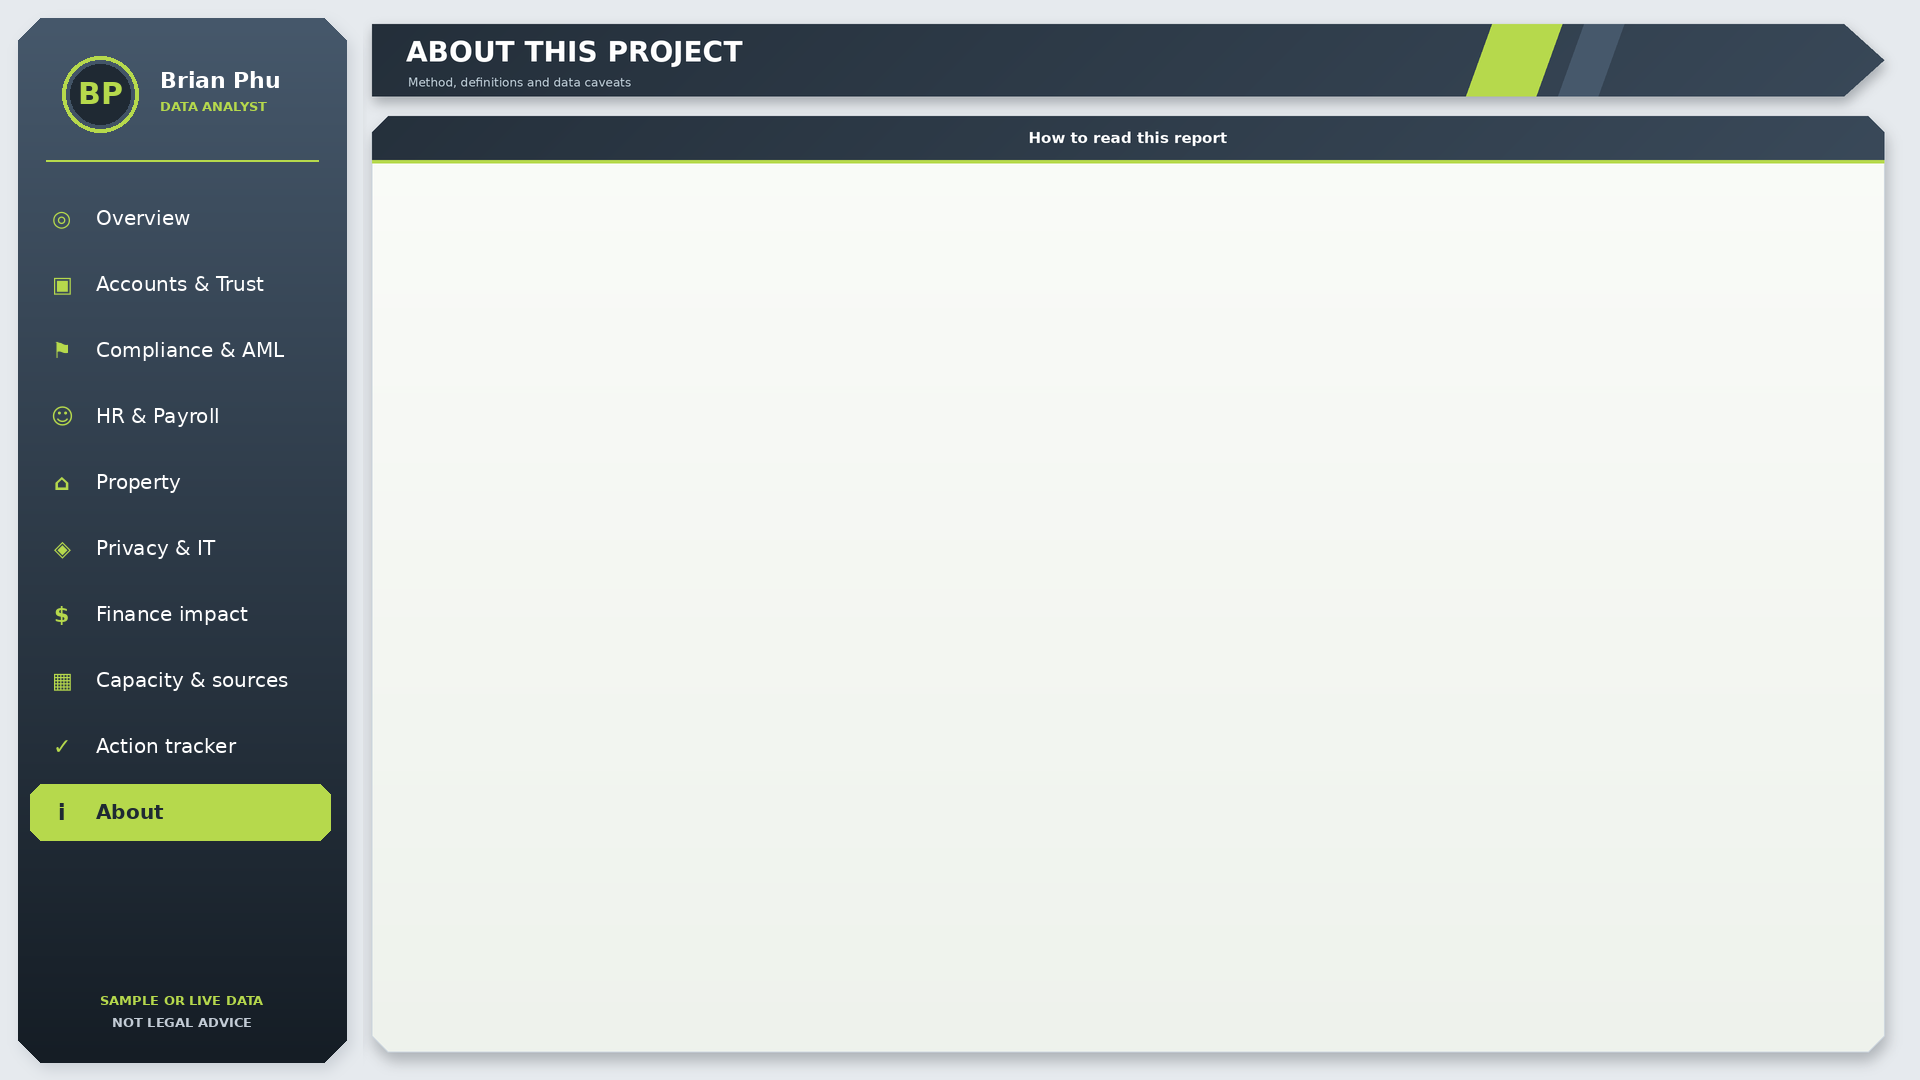

This screenshot's page, from the dashboard's own definition file:
{"tool":"powerbi","page":{"name":"About","canvas":[1920,1080],"ordinal":7},"visuals":[{"type":"textbox","box":[396,176,1464,860],"z":1000},{"type":"slicer","title":"Status","fields":{"Values":["changes.status"]},"box":[1120,26,180,62],"z":2280},{"type":"slicer","title":"Year","fields":{"Values":["dim_date.year"]},"box":[1316,26,150,62],"z":2290},{"type":"actionButton","box":[30,190,300,56],"z":9000},{"type":"actionButton","box":[30,256,300,56],"z":9001},{"type":"actionButton","box":[30,322,300,56],"z":9002},{"type":"actionButton","box":[30,388,300,56],"z":9003},{"type":"actionButton","box":[30,454,300,56],"z":9004},{"type":"actionButton","box":[30,520,300,56],"z":9005},{"type":"actionButton","box":[30,586,300,56],"z":9006},{"type":"actionButton","box":[30,652,300,56],"z":9007}]}

Visuals, with their boxes in screenshot pixels (x1, y1, x2, y2), scaled from the page's 1920x1080 canvas onto the 1920x1080 screenshot:
textbox: x1=396, y1=176, x2=1860, y2=1036
"Status" slicer: x1=1120, y1=26, x2=1300, y2=88
"Year" slicer: x1=1316, y1=26, x2=1466, y2=88
actionButton: x1=30, y1=190, x2=330, y2=246
actionButton: x1=30, y1=256, x2=330, y2=312
actionButton: x1=30, y1=322, x2=330, y2=378
actionButton: x1=30, y1=388, x2=330, y2=444
actionButton: x1=30, y1=454, x2=330, y2=510
actionButton: x1=30, y1=520, x2=330, y2=576
actionButton: x1=30, y1=586, x2=330, y2=642
actionButton: x1=30, y1=652, x2=330, y2=708
